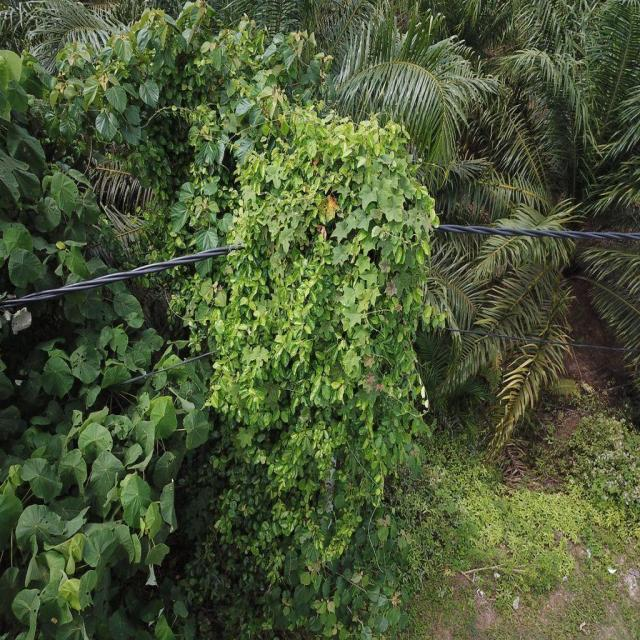critical vegetation: (218, 102, 441, 574)
